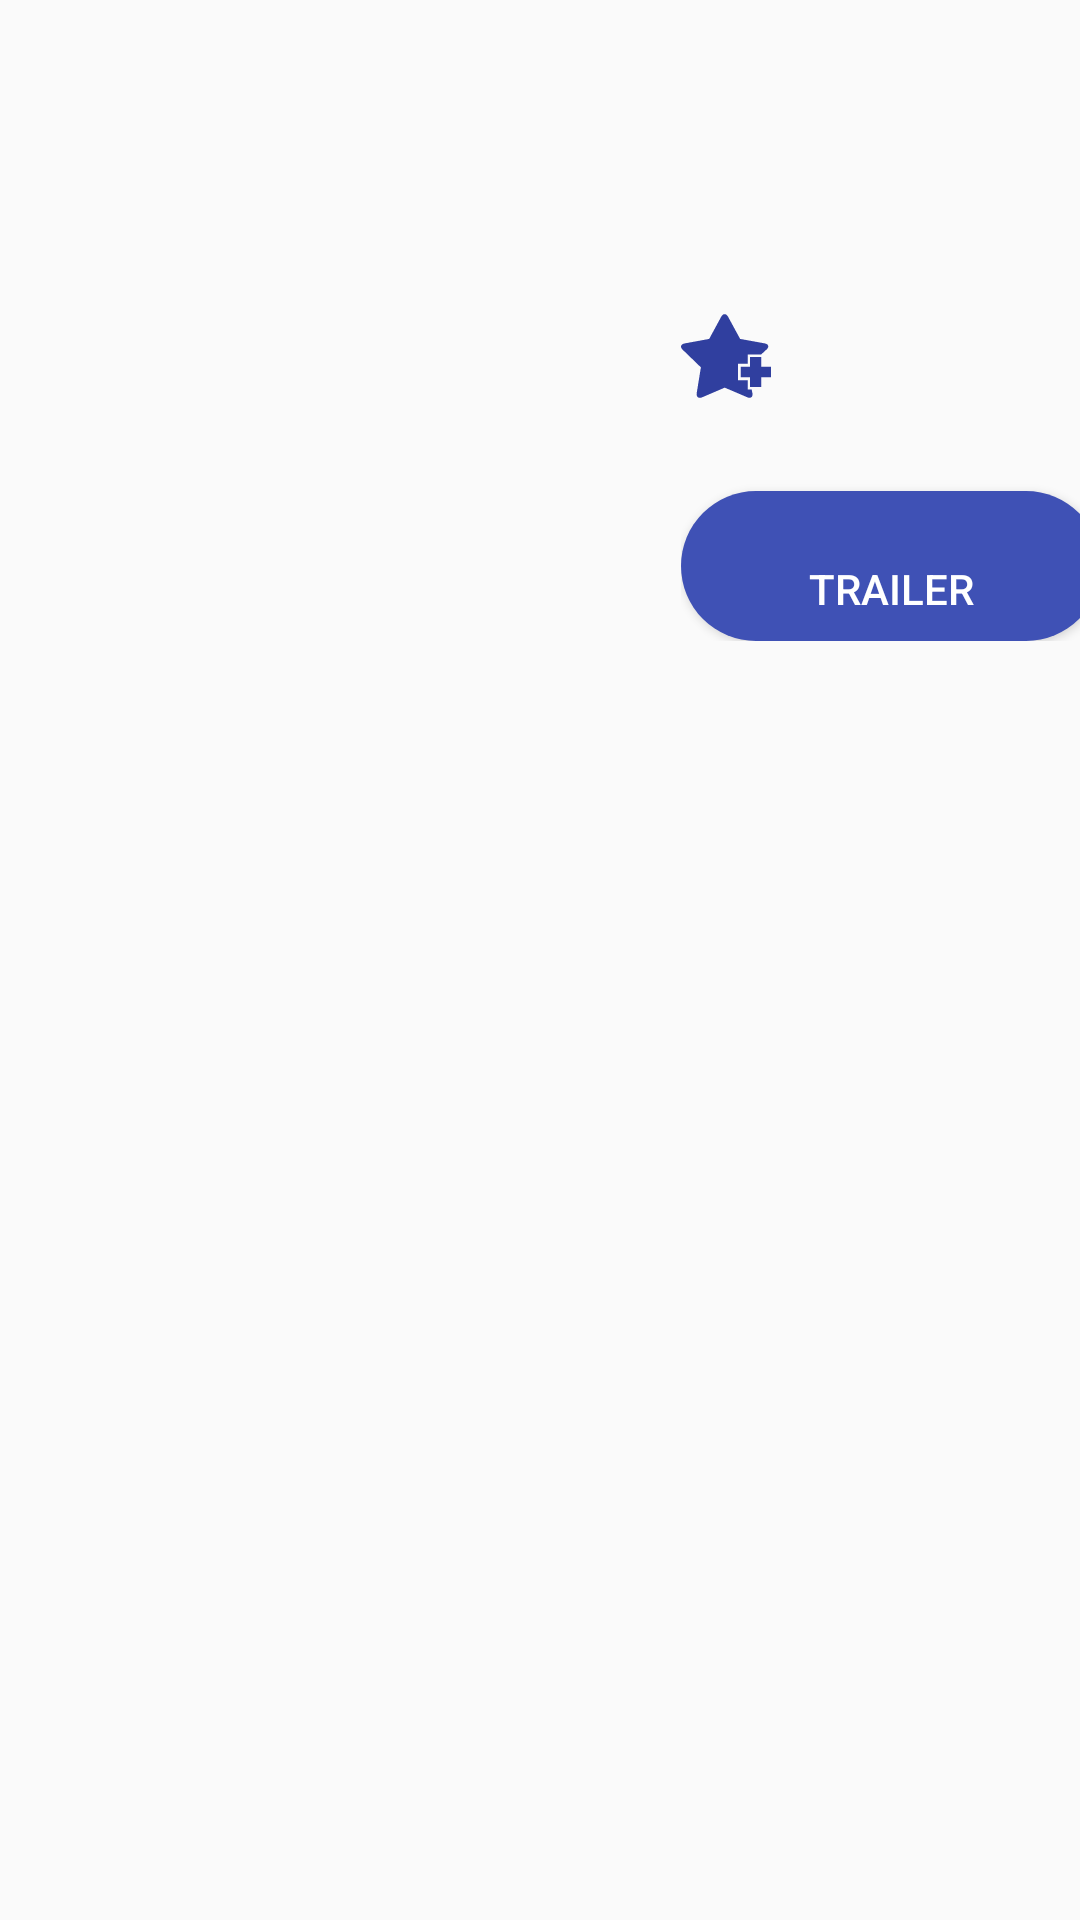

Named icons in this screenshot (1080 x 1920) and their centers, [x,y]:
add favorite: [726,356]
